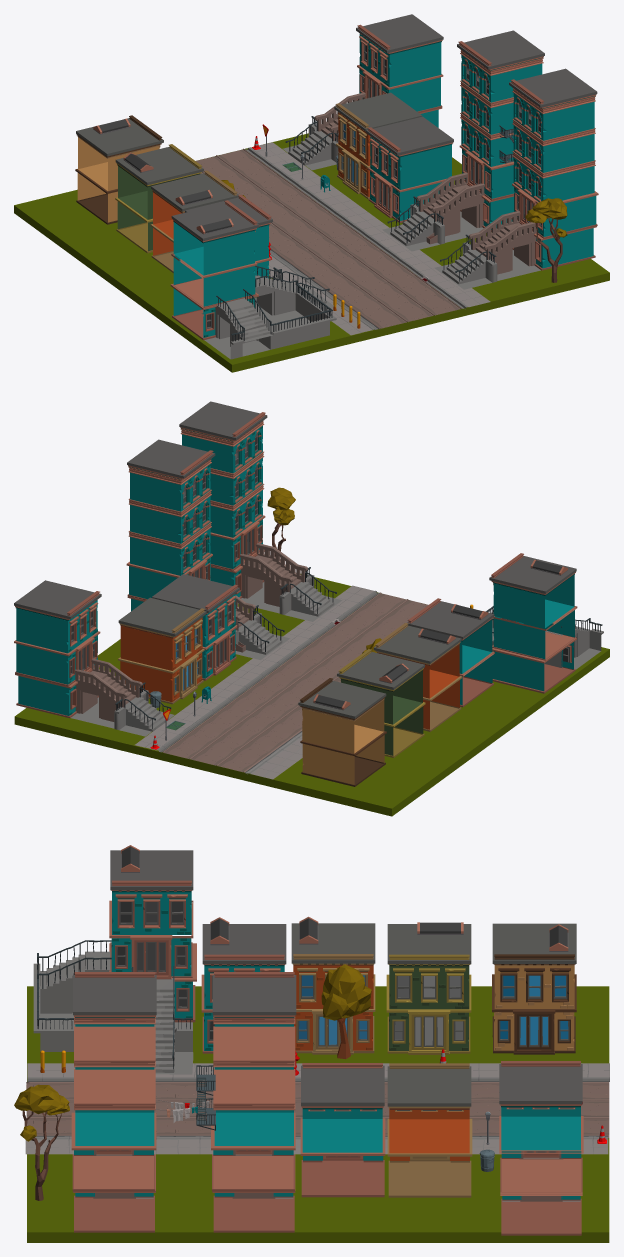
The model's file is House Area 6.fbx.
3 renders of one model, top to bottom at view 1: azimuth 30°, elevation 25°; view 2: azimuth 150°, elevation 25°; view 3: azimuth 270°, elevation 25°, orthographic. The views are drawn at different scales.
Parts seen in each view (by area): view 1: SM_Bld_Apartment_Roof_02.035, Plane.006, SM_Env_Path_Straight_01.004, SM_Bld_Apartment_Roof_02.027, SM_Bld_Apartment_01.010, SM_Bld_Apartment_Stairs_Corner_01, SM_Bld_Apartment_Roof_02.036, SM_Bld_Apartment_Roof_02.057, SM_Prop_LightPole_Base_02.016, SM_Bld_Apartment_Roof_02.032, SM_Bld_Apartment_Roof_02.033, SM_Bld_Apartment_Roof_02.029 (+5 smaller); view 2: Plane.006, SM_Bld_Apartment_Roof_02.035, SM_Bld_Apartment_01.010, SM_Bld_Apartment_Roof_02.027, SM_Env_Path_Straight_01.004, SM_Bld_Apartment_Roof_02.032, SM_Bld_Apartment_Roof_02.029, SM_Bld_Apartment_Roof_02.036, SM_Prop_LightPole_Base_02.016, SM_Bld_Apartment_Roof_02.033, SM_Bld_Apartment_Stairs_Corner_01, SM_Bld_Apartment_Roof_02.034 (+4 smaller); view 3: Plane.006, SM_Bld_Apartment_Roof_02.027, SM_Bld_Apartment_Roof_02.035, SM_Bld_Apartment_01.010, SM_Bld_Apartment_Roof_02.029, SM_Bld_Apartment_Roof_02.057, SM_Bld_Apartment_Roof_02.032, SM_Bld_Apartment_Roof_02.033, SM_Bld_Apartment_Roof_02.036, SM_Bld_Apartment_Roof_02.034, SM_Env_Path_Straight_01.004, SM_Bld_Apartment_Stairs_Corner_01 (+6 smaller).
Boxes of the visible parts, x1=… form: SM_Bld_Apartment_Roof_02.035: x1=434, y1=68, x2=598, y2=289; Plane.006: x1=14, y1=133, x2=609, y2=372; SM_Env_Path_Straight_01.004: x1=196, y1=148, x2=461, y2=329; SM_Bld_Apartment_Roof_02.027: x1=382, y1=30, x2=544, y2=251; SM_Bld_Apartment_01.010: x1=282, y1=14, x2=443, y2=170; SM_Bld_Apartment_Stairs_Corner_01: x1=170, y1=265, x2=336, y2=359; SM_Bld_Apartment_Roof_02.036: x1=171, y1=200, x2=259, y2=307; SM_Bld_Apartment_Roof_02.057: x1=366, y1=116, x2=453, y2=222; SM_Prop_LightPole_Base_02.016: x1=245, y1=124, x2=490, y2=309; SM_Bld_Apartment_Roof_02.032: x1=75, y1=115, x2=163, y2=224; SM_Bld_Apartment_Roof_02.033: x1=115, y1=144, x2=203, y2=253; SM_Bld_Apartment_Roof_02.029: x1=334, y1=92, x2=422, y2=199; Plane.006: x1=14, y1=574, x2=609, y2=816; SM_Bld_Apartment_Roof_02.035: x1=179, y1=401, x2=342, y2=621; SM_Bld_Apartment_01.010: x1=14, y1=580, x2=174, y2=736; SM_Bld_Apartment_Roof_02.027: x1=126, y1=439, x2=289, y2=659; SM_Env_Path_Straight_01.004: x1=162, y1=592, x2=428, y2=772; SM_Bld_Apartment_Roof_02.032: x1=298, y1=678, x2=386, y2=786; SM_Bld_Apartment_Roof_02.029: x1=118, y1=597, x2=206, y2=704; SM_Bld_Apartment_Roof_02.036: x1=489, y1=553, x2=577, y2=660; SM_Prop_LightPole_Base_02.016: x1=135, y1=585, x2=379, y2=752; SM_Bld_Apartment_Roof_02.033: x1=337, y1=649, x2=425, y2=757; SM_Bld_Apartment_Stairs_Corner_01: x1=486, y1=606, x2=603, y2=693; SM_Bld_Apartment_Roof_02.034: x1=373, y1=623, x2=462, y2=731; Plane.006: x1=27, y1=986, x2=609, y2=1242; SM_Bld_Apartment_Roof_02.027: x1=211, y1=972, x2=296, y2=1232; SM_Bld_Apartment_Roof_02.035: x1=71, y1=972, x2=156, y2=1232; SM_Bld_Apartment_01.010: x1=499, y1=1061, x2=583, y2=1235; SM_Bld_Apartment_Roof_02.029: x1=387, y1=1063, x2=472, y2=1197; SM_Bld_Apartment_Roof_02.057: x1=300, y1=1063, x2=385, y2=1197; SM_Bld_Apartment_Roof_02.032: x1=492, y1=923, x2=576, y2=1054; SM_Bld_Apartment_Roof_02.033: x1=386, y1=924, x2=471, y2=1054; SM_Bld_Apartment_Roof_02.036: x1=109, y1=850, x2=193, y2=979; SM_Bld_Apartment_Roof_02.034: x1=291, y1=923, x2=375, y2=1054; SM_Env_Path_Straight_01.004: x1=26, y1=1082, x2=609, y2=1137; SM_Bld_Apartment_Stairs_Corner_01: x1=33, y1=940, x2=196, y2=1051.
Bounding box in the file's own units: 10276 × 4509 × 10230.
